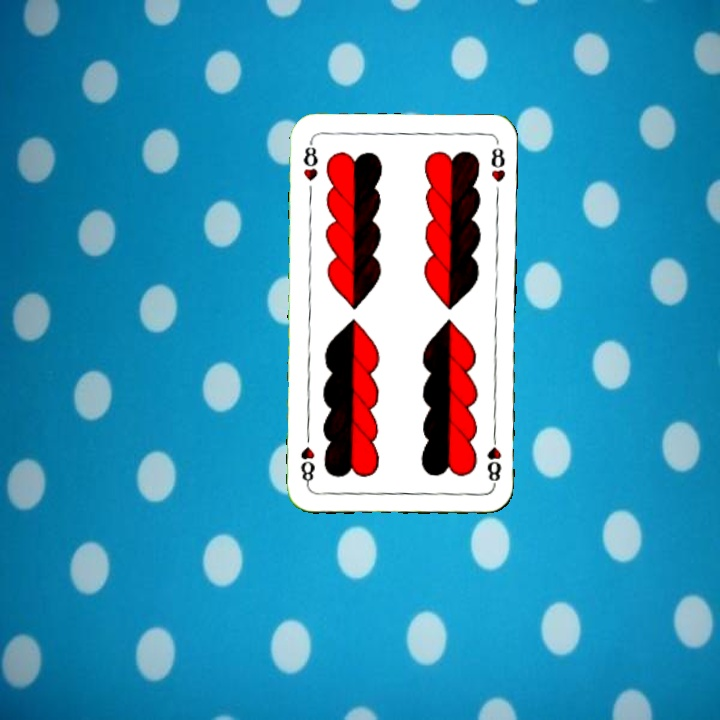H8: (483, 429, 504, 488), (299, 138, 321, 184)
